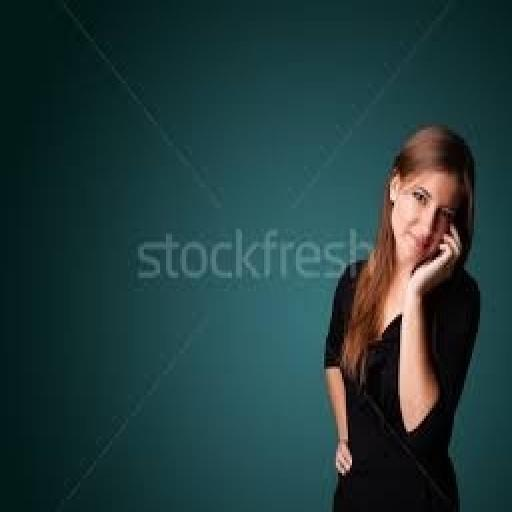calling: (320, 122, 482, 510)
